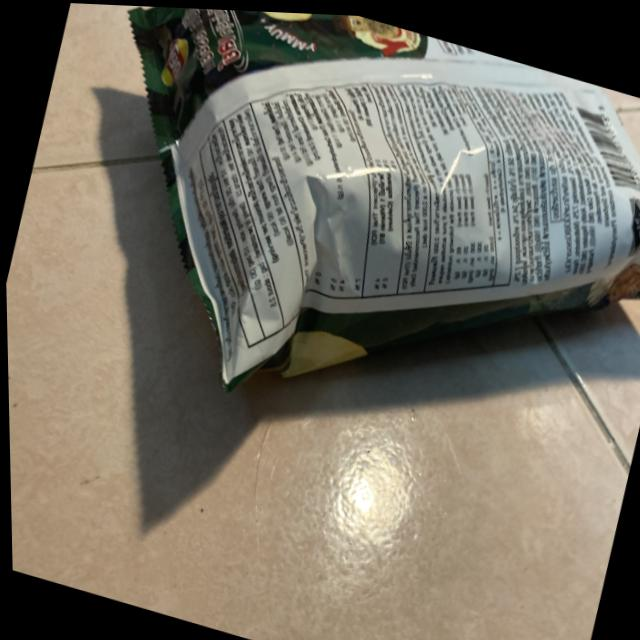Laygreen: (44, 2, 640, 486)
